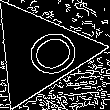O_SW: (4, 20, 77, 84)
